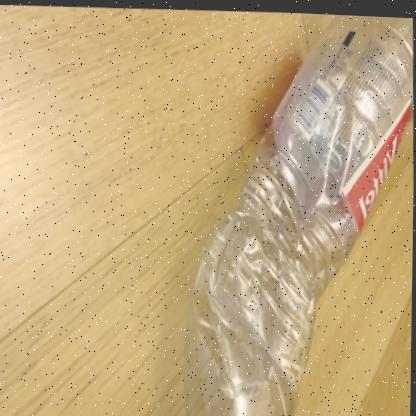Plastic: (186, 12, 413, 416)
